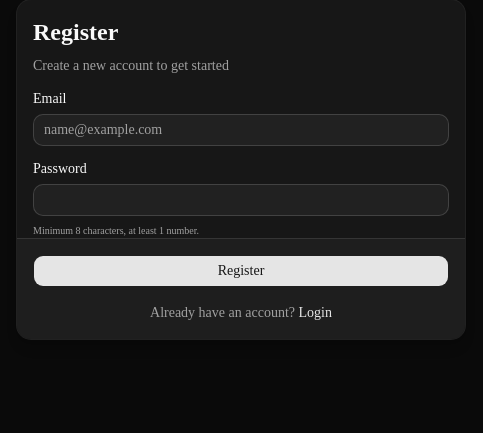
Test: RegisterForm › displays server error message
In the field labelled "Email": (241, 130) [33,114,449,146], type "test@example.com"
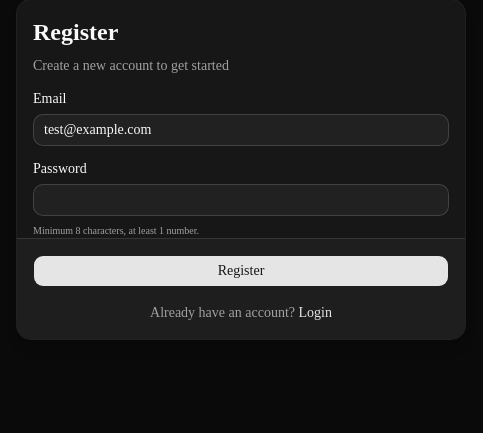
In the password field labelled "Password": (241, 200) [33,184,449,216], type "password123"
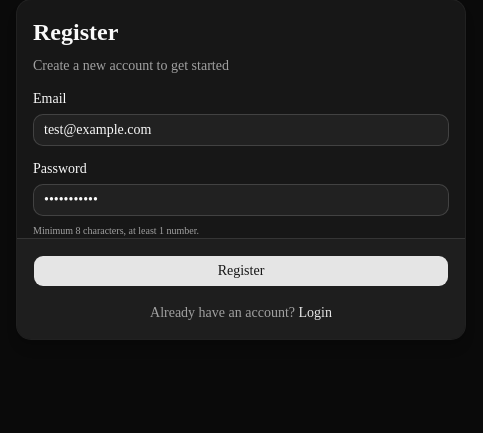
Click the button "Register": (241, 271) [33,255,449,287]
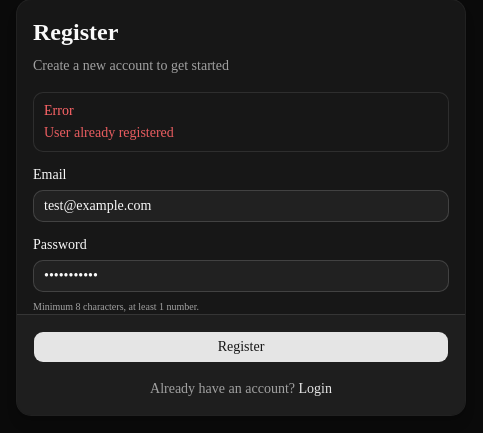
Expected: the text "User already registered" is shown, [44,125,174,140]
